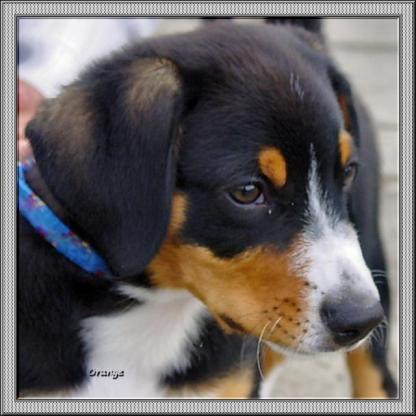EntleBucher: (18, 16, 392, 398)
